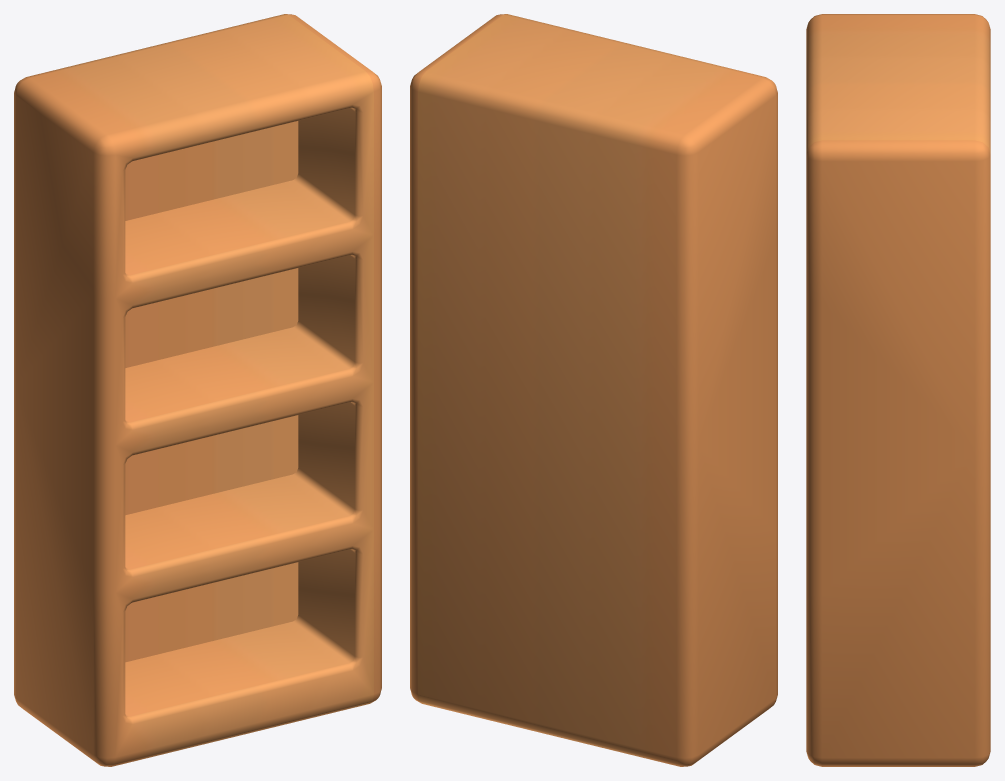
Rendered from Shelving_02.glb.
The picture shows the model from 3 angles, left to right: view 1: azimuth 30°, elevation 25°; view 2: azimuth 150°, elevation 25°; view 3: azimuth 270°, elevation 25°; orthographic projection.
Parts seen in each view (by area): view 1: Shelving_02; view 2: Shelving_02; view 3: Shelving_02.
Part boxes in pixels (x1=…): Shelving_02: x1=14, y1=14, x2=381, y2=766; Shelving_02: x1=410, y1=14, x2=777, y2=766; Shelving_02: x1=806, y1=14, x2=990, y2=766.
Bounding box in the file's own units: 0.7073 × 1.49 × 0.3987.
1 material, 1 textured.
